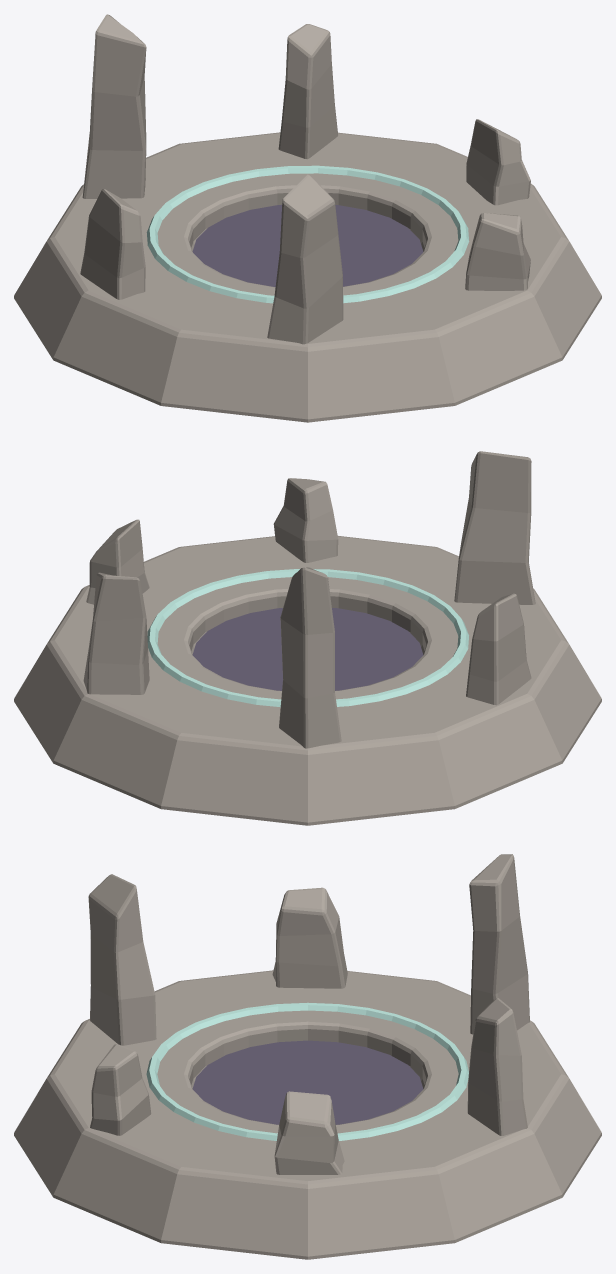
The model's file is socket.glb.
The picture shows the model from 3 angles, top to bottom: view 1: azimuth 30°, elevation 25°; view 2: azimuth 150°, elevation 25°; view 3: azimuth 270°, elevation 25°; orthographic projection.
Parts seen in each view (by area): view 1: WS_Rock, WS_WellFloor, WS_RuneRing; view 2: WS_Rock, WS_WellFloor, WS_RuneRing; view 3: WS_Rock, WS_WellFloor, WS_RuneRing.
Boxes of the visible parts, x1,y1,x2,y2 form: WS_Rock: (14, 14, 601, 422); WS_WellFloor: (192, 204, 423, 287); WS_RuneRing: (146, 165, 469, 303); WS_Rock: (14, 451, 601, 825); WS_WellFloor: (192, 608, 423, 690); WS_RuneRing: (147, 569, 468, 707); WS_Rock: (14, 854, 601, 1259); WS_WellFloor: (192, 1040, 423, 1124); WS_RuneRing: (146, 1002, 468, 1140).
Size of the model in its own units: 5.95 by 2.61 by 5.95.
